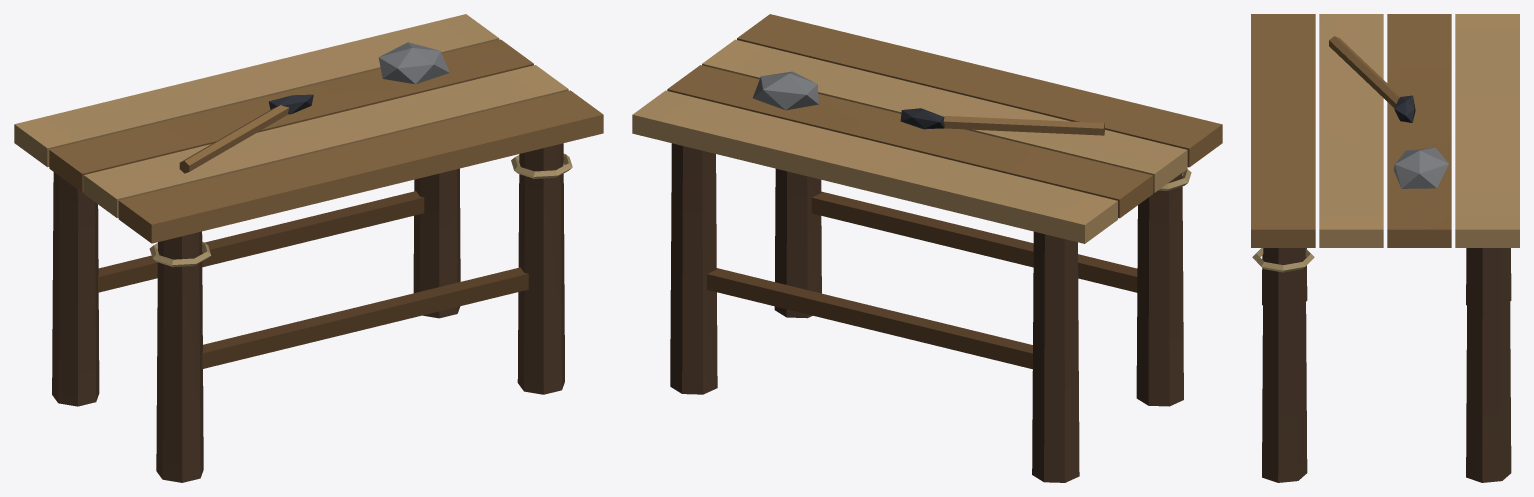
Rendered from Workbench.fbx.
3 renders of one model, left to right at view 1: azimuth 30°, elevation 25°; view 2: azimuth 150°, elevation 25°; view 3: azimuth 270°, elevation 25°, orthographic. The views are drawn at different scales.
Visible parts, largest first — view 1: Workbench; view 2: Workbench; view 3: Workbench.
Part boxes in pixels (x1,y1,x2,y2): Workbench: (14, 14, 603, 482); Workbench: (632, 14, 1222, 482); Workbench: (1251, 14, 1519, 482).
Size of the model in its own units: 1.5 by 0.9532 by 0.79.
